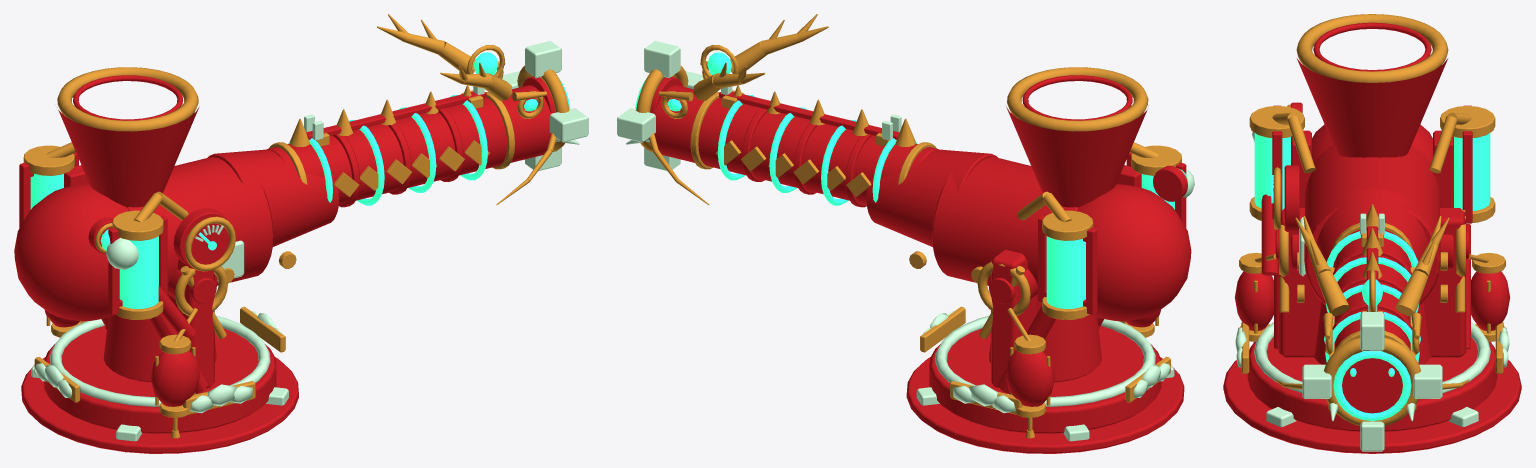
File: slop-cannon-dragon-new-year.glb
3 renders of one model, left to right at view 1: azimuth 30°, elevation 25°; view 2: azimuth 150°, elevation 25°; view 3: azimuth 270°, elevation 25°, orthographic. The views are drawn at different scales.
Parts seen in each view (by area): view 1: CannonRecoilRender, CannonRootRender, CannonYawRender, CANNON_V3_ChargeGlowMesh, CANNON_V3_AmmoGlowMesh; view 2: CannonRecoilRender, CannonRootRender, CannonYawRender, CANNON_V3_ChargeGlowMesh, CANNON_V3_AmmoGlowMesh; view 3: CannonRecoilRender, CannonRootRender, CannonYawRender, CANNON_V3_AmmoGlowMesh, CANNON_V3_ChargeGlowMesh, CANNON_V3_MuzzleGlowMesh.
Part boxes in pixels (bbox=[...]): CannonRecoilRender: bbox=[14, 14, 588, 339]; CannonRootRender: bbox=[21, 295, 298, 453]; CannonYawRender: bbox=[44, 259, 227, 438]; CANNON_V3_ChargeGlowMesh: bbox=[288, 52, 538, 205]; CANNON_V3_AmmoGlowMesh: bbox=[30, 174, 158, 308]; CannonRecoilRender: bbox=[617, 14, 1194, 321]; CannonRootRender: bbox=[906, 295, 1184, 453]; CannonYawRender: bbox=[977, 249, 1160, 438]; CANNON_V3_ChargeGlowMesh: bbox=[667, 52, 917, 205]; CANNON_V3_AmmoGlowMesh: bbox=[1046, 174, 1174, 308]; CannonRecoilRender: bbox=[1249, 14, 1495, 451]; CannonRootRender: bbox=[1223, 301, 1521, 453]; CannonYawRender: bbox=[1234, 208, 1510, 358]; CANNON_V3_AmmoGlowMesh: bbox=[1254, 133, 1490, 210]; CANNON_V3_ChargeGlowMesh: bbox=[1324, 231, 1420, 362]; CANNON_V3_MuzzleGlowMesh: bbox=[1333, 351, 1411, 420].
Bounding box in the file's own units: 4.69 × 2.62 × 2.1.
